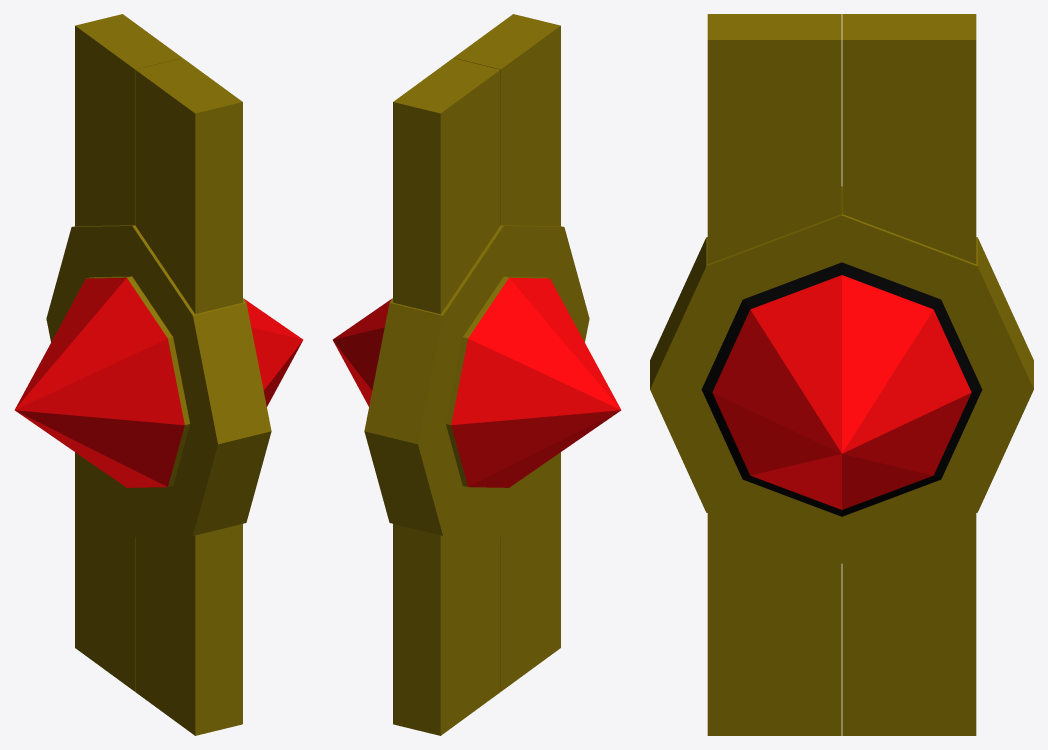
The model's file is Enemy2.fbx.
The picture shows the model from 3 angles, left to right: view 1: azimuth 30°, elevation 25°; view 2: azimuth 150°, elevation 25°; view 3: azimuth 270°, elevation 25°; orthographic projection. The views are drawn at different scales.
Parts seen in each view (by area): view 1: Base, Wing; view 2: Base, Wing; view 3: Base, Wing.
Part boxes in pixels (left/top/right/bottom): Base: left=14, top=58, right=303, bottom=691; Wing: left=75, top=14, right=242, bottom=735; Base: left=332, top=14, right=621, bottom=735; Wing: left=393, top=58, right=560, bottom=691; Base: left=650, top=14, right=1033, bottom=735; Wing: left=707, top=14, right=976, bottom=735.
Size of the model in its own units: 97.2 by 200 by 100.
